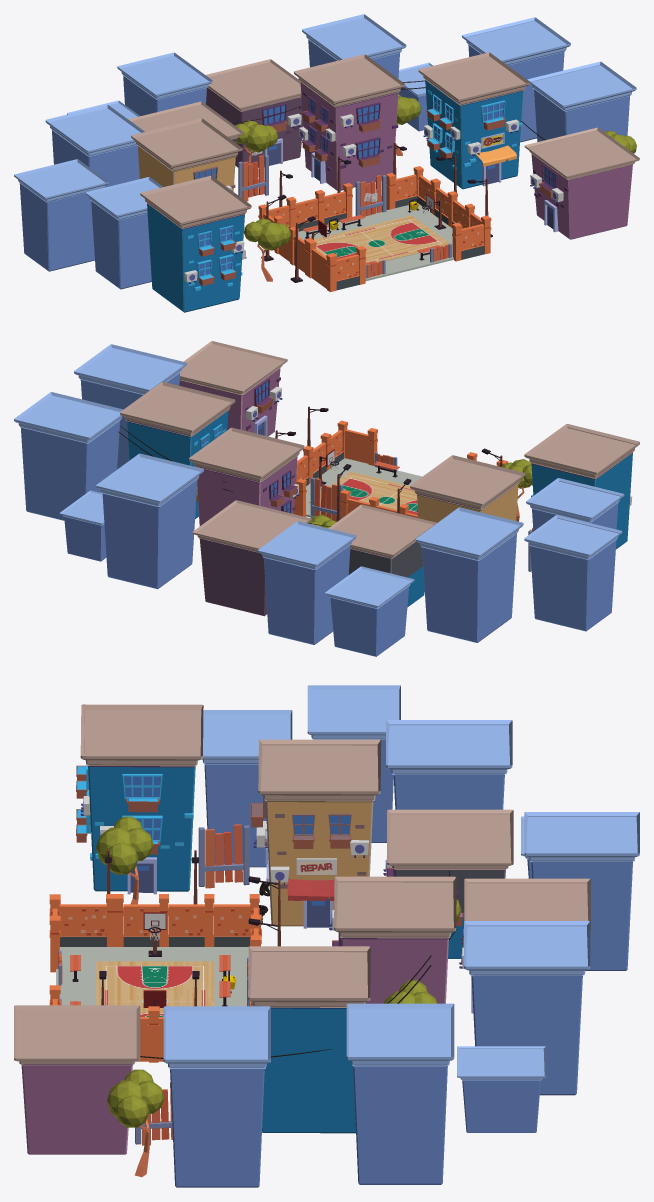
File: assignment.fbx
3 views of the same model, one above another, from view 1: azimuth 30°, elevation 25°; view 2: azimuth 150°, elevation 25°; view 3: azimuth 270°, elevation 25° (orthographic). The views are drawn at different scales.
Parts seen in each view (by area): view 1: Cube.105, Cube, Cube.022, Cube.065, Cube.189, Cube.175, Cube.190, Cube.125, Cube.188, Cube.085, Cube.183, Cube.186 (+21 smaller); view 2: Cube.188, Cube.184, Cube.183, Cube.189, Cube.186, Cube.125, Cube.065, Cube.022, Cube.105, Cube.187, Cube.085, Cube (+10 smaller); view 3: Cube.022, Cube.183, Cube.175, Cube.184, Cube, Cube.105, Cube.085, Cube.065, Cube.186, Cube.188, Cube.132, Cube.190 (+18 smaller).
Boxes of the visible parts, x1=… form: Cube.105: x1=140, y1=175, x2=251, y2=312; Cube: x1=524, y1=127, x2=639, y2=239; Cube.022: x1=418, y1=52, x2=529, y2=189; Cube.065: x1=294, y1=54, x2=405, y2=190; Cube.189: x1=14, y1=159, x2=108, y2=271; Cube.175: x1=527, y1=61, x2=636, y2=141; Cube.190: x1=85, y1=177, x2=162, y2=289; Cube.125: x1=205, y1=59, x2=303, y2=167; Cube.188: x1=45, y1=105, x2=144, y2=187; Cube.085: x1=131, y1=118, x2=242, y2=191; Cube.183: x1=462, y1=17, x2=570, y2=142; Cube.186: x1=117, y1=52, x2=212, y2=115; Cube.188: x1=415, y1=507, x2=523, y2=642; Cube.184: x1=96, y1=453, x2=203, y2=589; Cube.183: x1=14, y1=392, x2=123, y2=520; Cube.189: x1=524, y1=515, x2=622, y2=631; Cube.186: x1=258, y1=521, x2=356, y2=644; Cube.125: x1=192, y1=500, x2=311, y2=616; Cube.065: x1=189, y1=427, x2=304, y2=526; Cube.022: x1=120, y1=382, x2=235, y2=518; Cube.105: x1=524, y1=424, x2=639, y2=549; Cube.187: x1=325, y1=566, x2=414, y2=656; Cube.085: x1=410, y1=455, x2=525, y2=522; Cube: x1=179, y1=341, x2=287, y2=436; Cube.022: x1=248, y1=946, x2=370, y2=1133; Cube.183: x1=346, y1=1003, x2=454, y2=1184; Cube.175: x1=163, y1=1006, x2=270, y2=1187; Cube.184: x1=464, y1=921, x2=590, y2=1095; Cube: x1=14, y1=1005, x2=140, y2=1154; Cube.105: x1=80, y1=704, x2=203, y2=891; Cube.085: x1=258, y1=739, x2=381, y2=926; Cube.065: x1=334, y1=876, x2=456, y2=1003; Cube.186: x1=524, y1=812, x2=639, y2=970; Cube.188: x1=386, y1=720, x2=512, y2=809; Cube.132: x1=387, y1=809, x2=513, y2=958; Cube.190: x1=201, y1=710, x2=292, y2=867.
Bounding box in the file's own units: 3931 × 684 × 2645.
